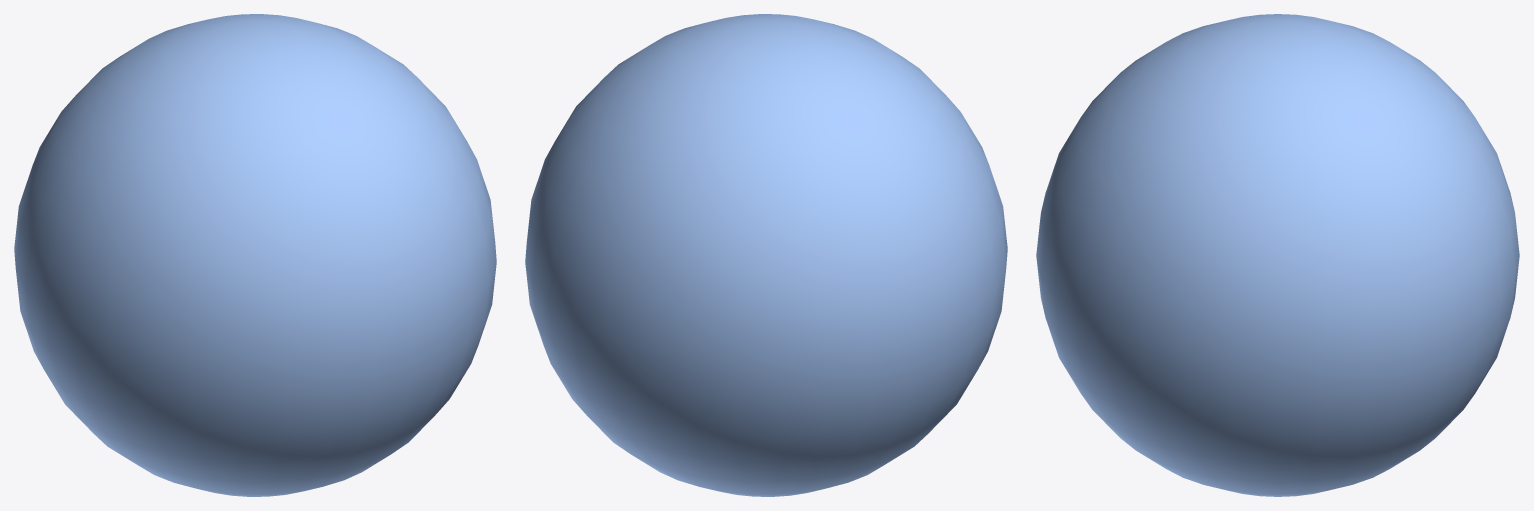
File: earth.glb
3 views of the same model, side by side, from view 1: azimuth 30°, elevation 25°; view 2: azimuth 150°, elevation 25°; view 3: azimuth 270°, elevation 25° (orthographic).
Visible parts, largest first — view 1: Atmosphere; view 2: Atmosphere; view 3: Atmosphere.
Part boxes in pixels (left/top/right/bottom): Atmosphere: left=14, top=14, right=496, bottom=496; Atmosphere: left=525, top=14, right=1007, bottom=496; Atmosphere: left=1036, top=14, right=1519, bottom=496.
Bounding box in the file's own units: 2.04 × 2.04 × 2.04.
